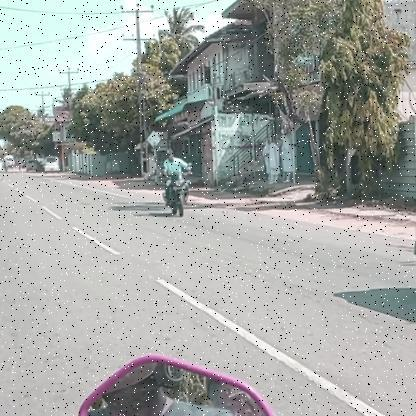motorcycle: (161, 170, 194, 218)
